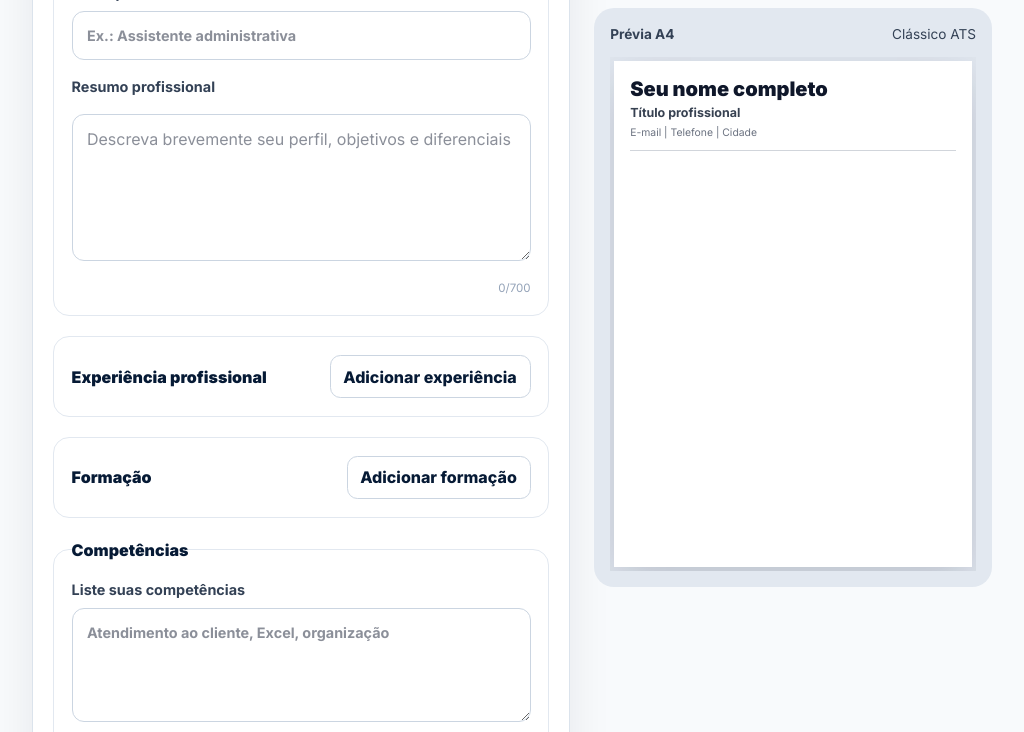
it: ResumeBuilderTool › adds and removes an experience section
The width and height of the screenshot is (1024, 732).
(page scrolled)
Step 1. Click the button "Adicionar experiência" → (430, 376), box [330,355,530,398]
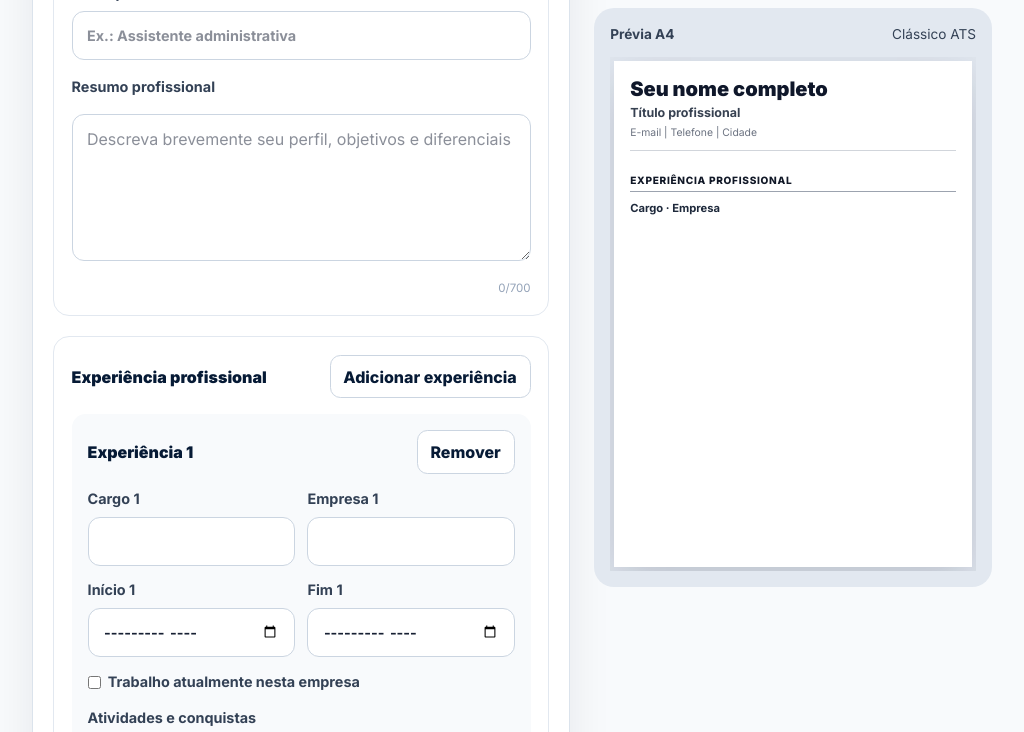
Expected: the field labelled "Cargo 1" is shown, [88,517,295,566]
Step 2. Click the button with aria-label "Remover experiência 1" → (466, 452), box [417,430,515,474]
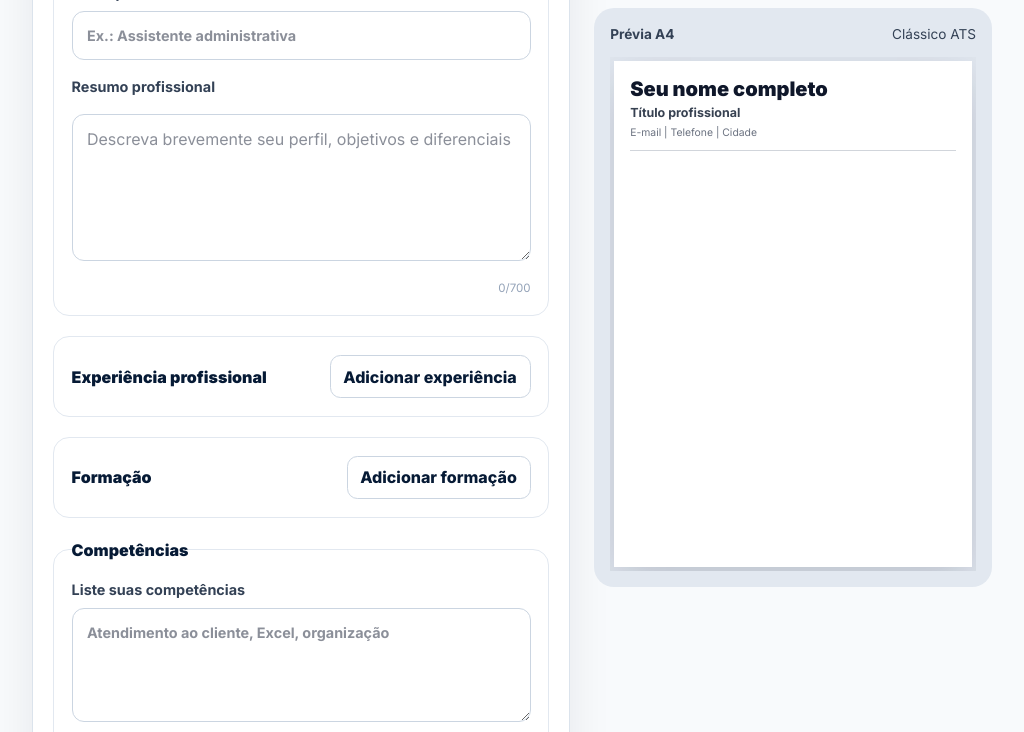
Expected: the label labelled "Cargo 1" is gone
